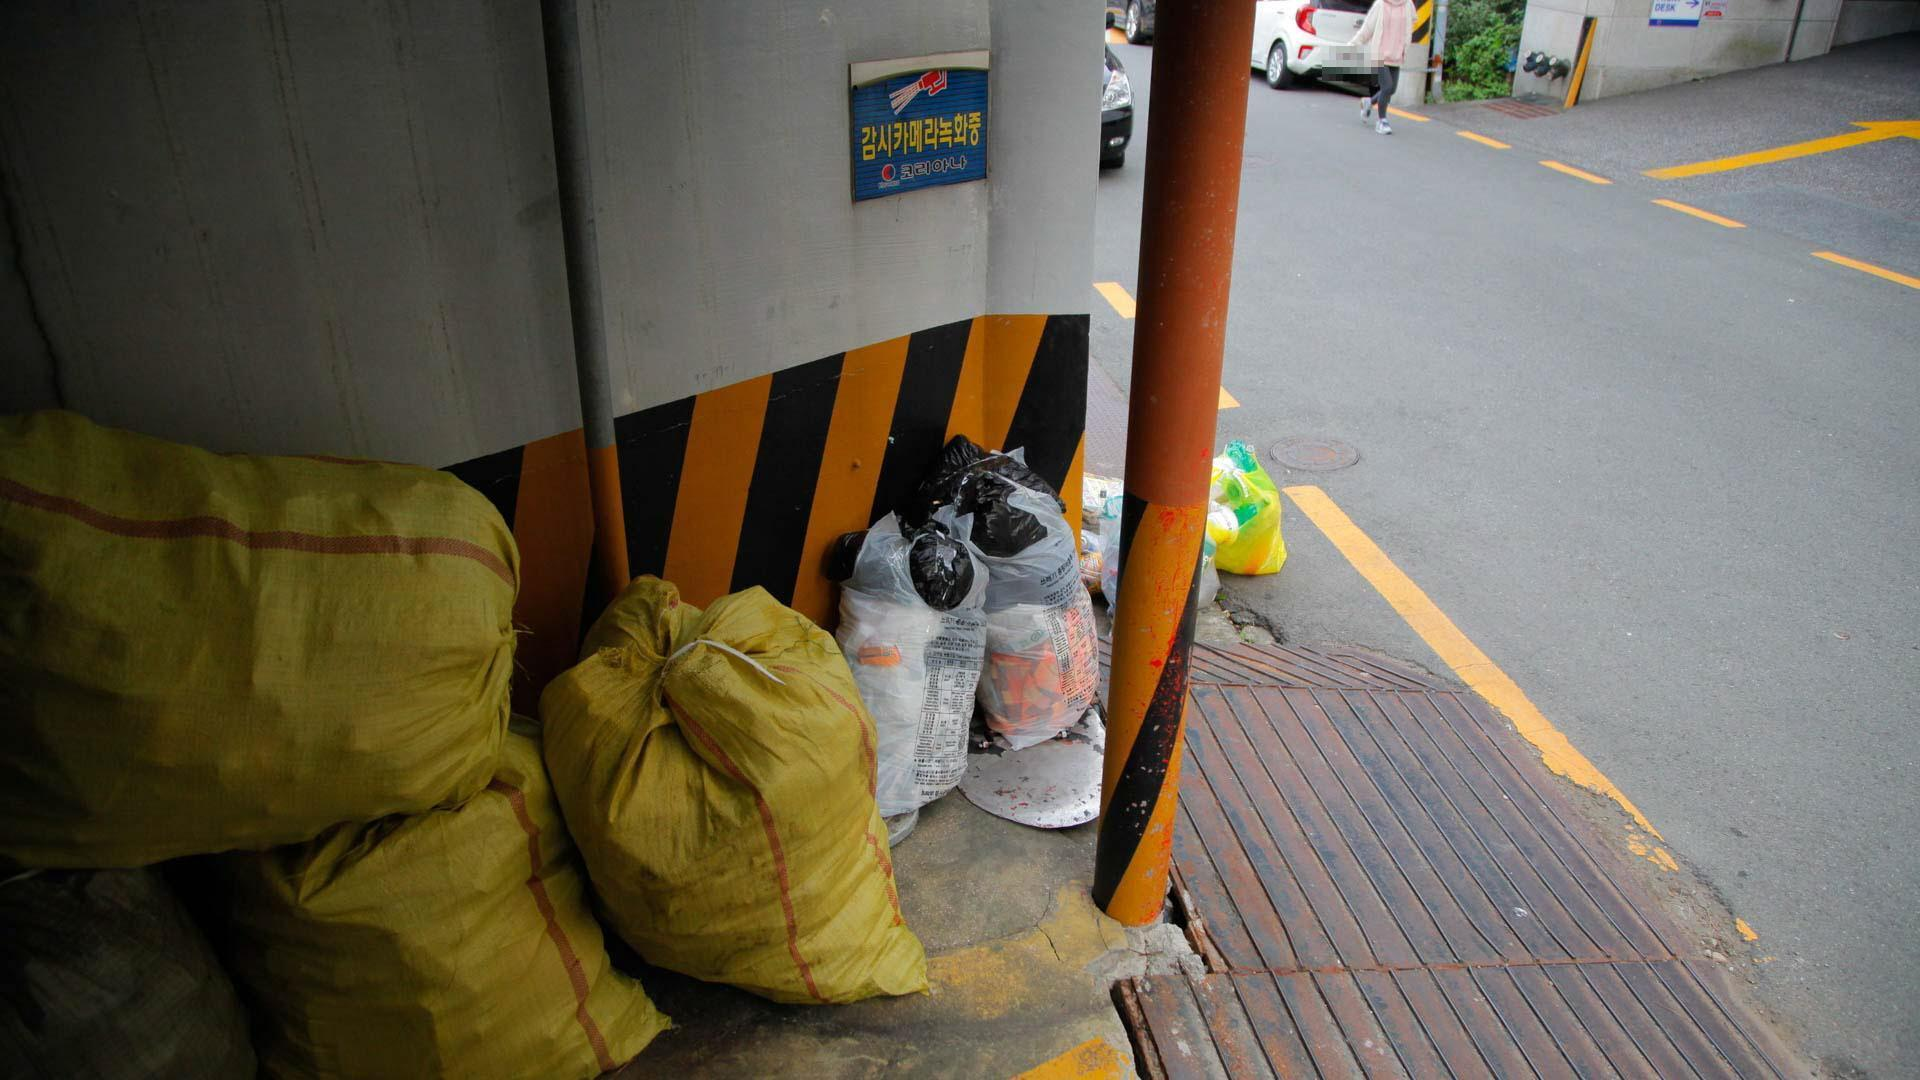white_bag: (928, 426, 1106, 754), (818, 506, 993, 825)
